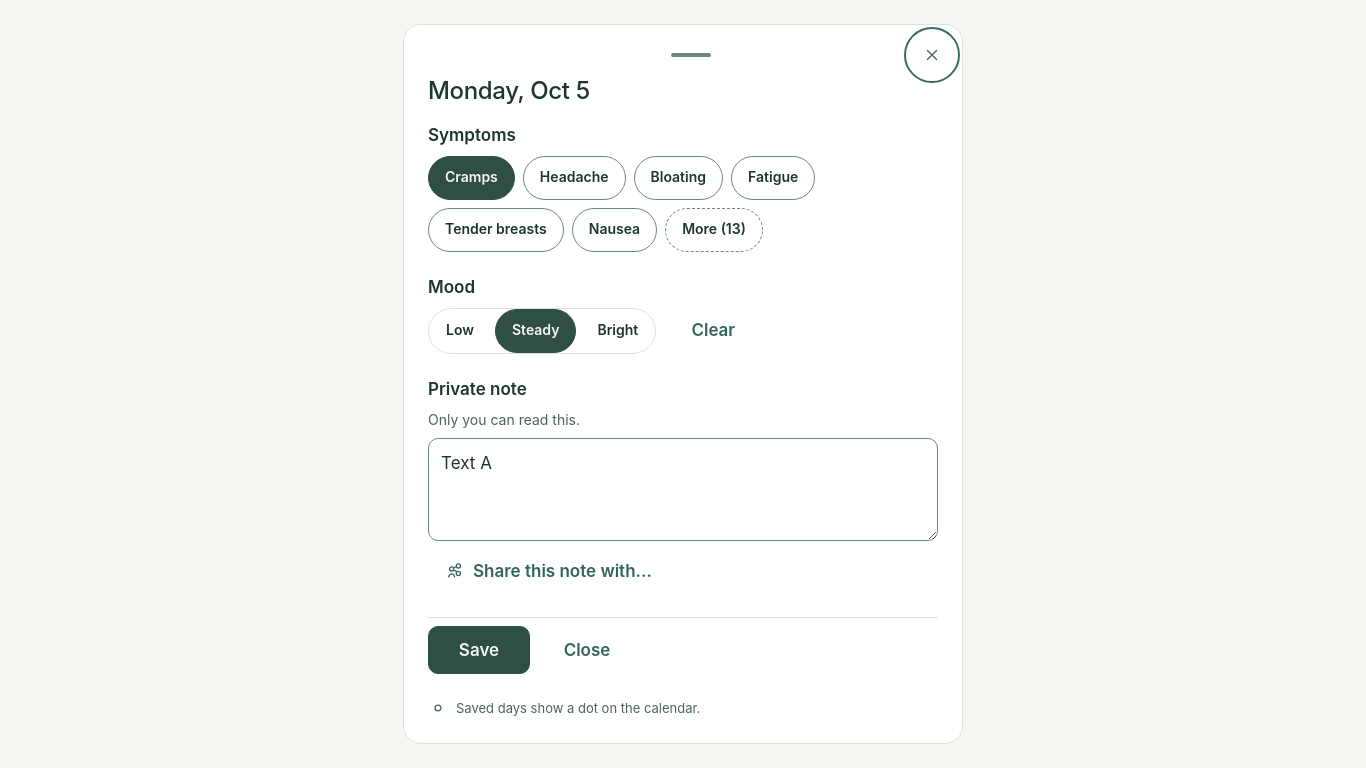
Test case: DayLogSheet › shows the note as it is now after a share conflict, and shares only after a fresh confirm
This screenshot has width=1366, height=768.
(page scrolled)
Click the button "Share this note with...".
click(548, 571)  # box x1=428 y1=549 x2=669 y2=593
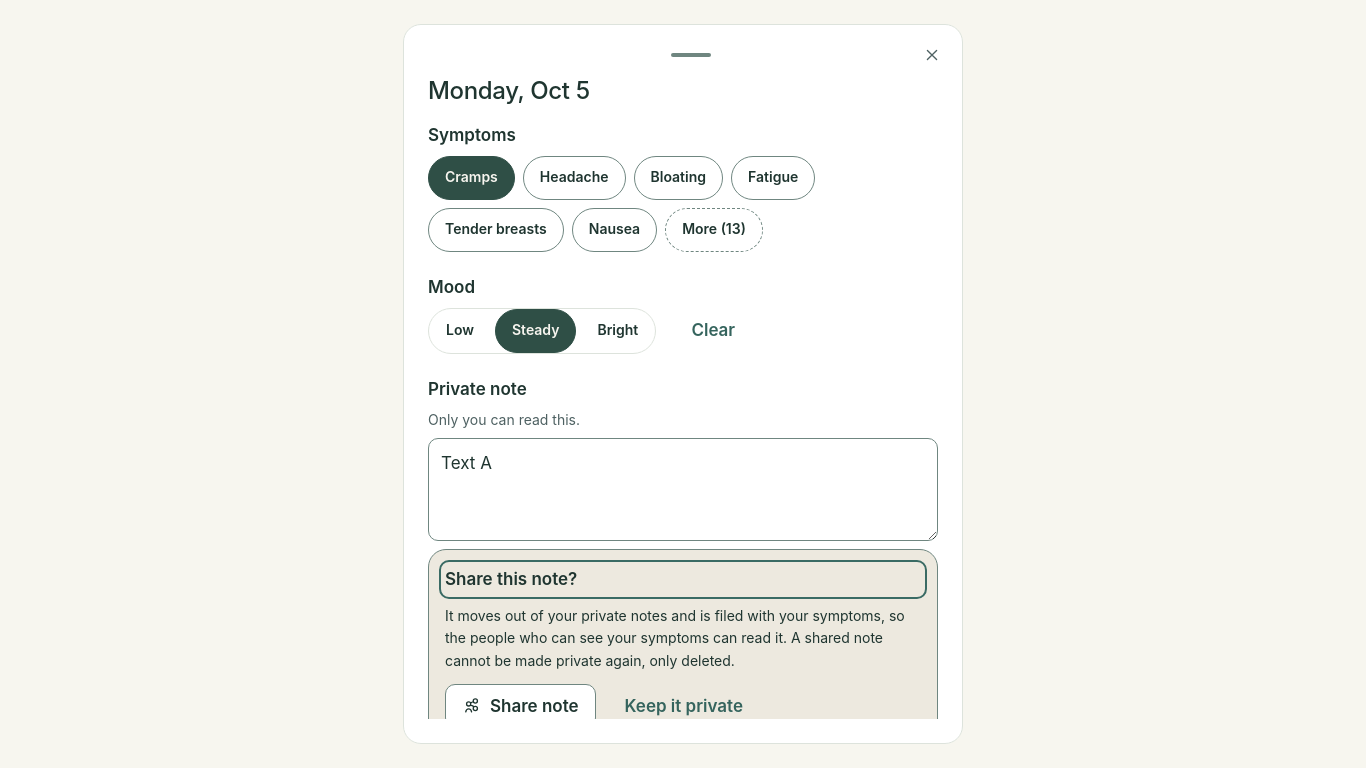
Click the button "Share note".
click(520, 706)  # box x1=445 y1=684 x2=596 y2=728
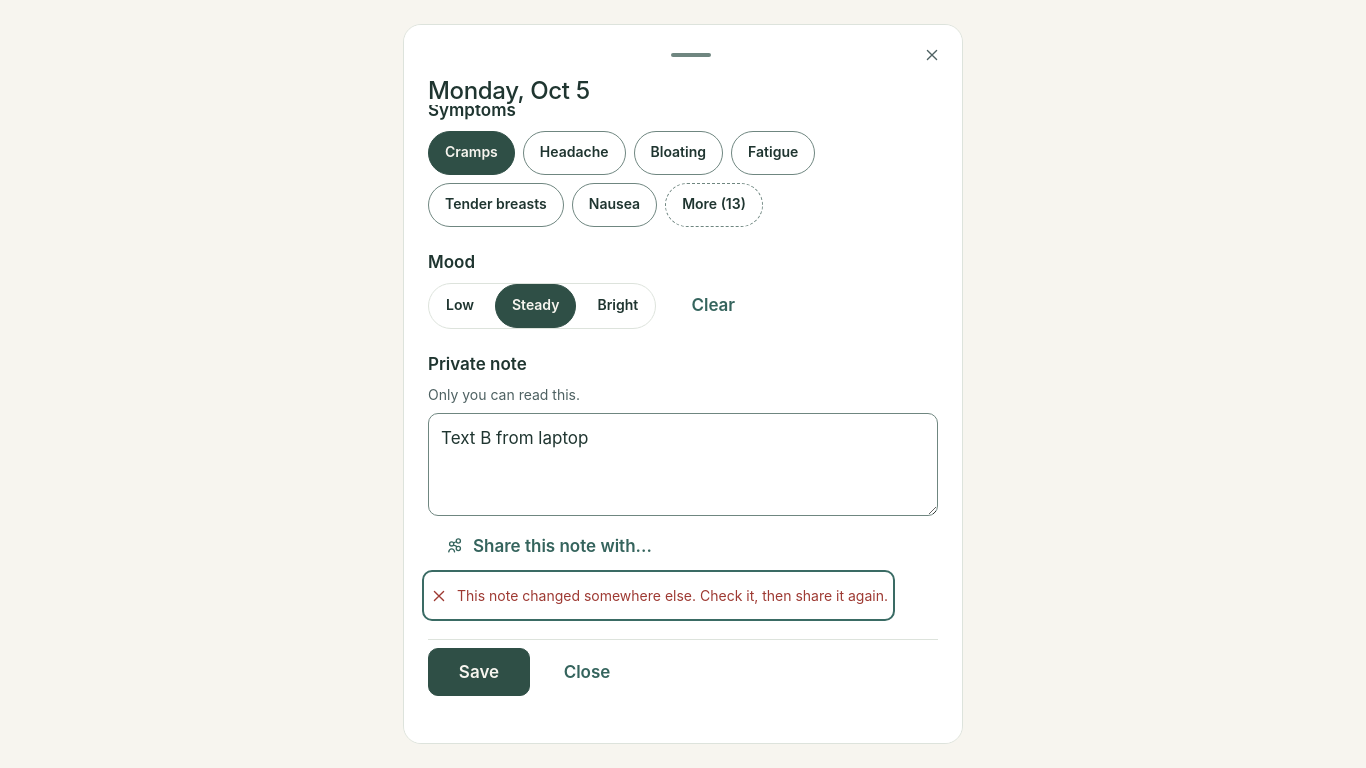
expect the element "Share this note?" is not shown: met
expect the text box labelled "Private note" holds "Text B from laptop": met, box x1=428 y1=413 x2=938 y2=516
Click the button "Share this note with...".
click(548, 546)  # box x1=428 y1=524 x2=669 y2=568
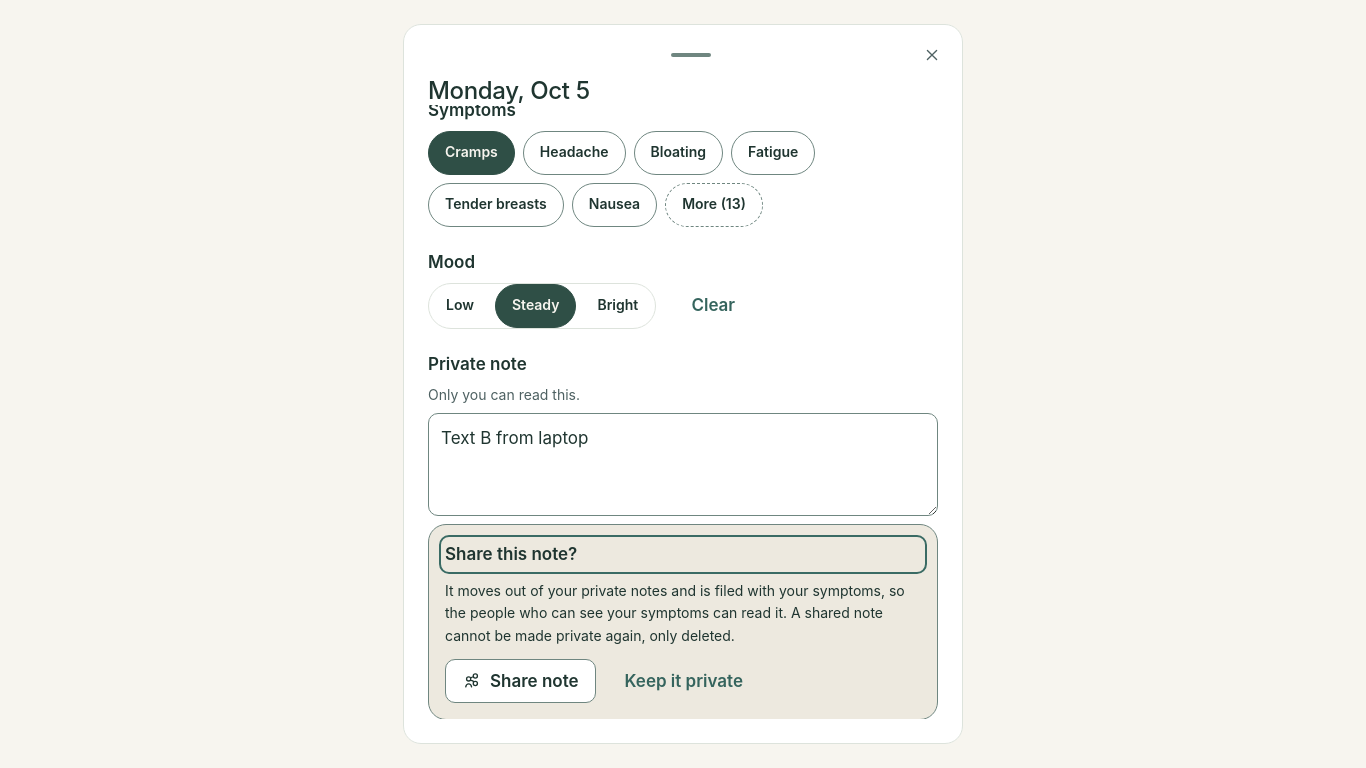
expect the text "This note changed somewhere else. Check it, then share it again." is gone: met
Click the button "Share note".
click(520, 681)  # box x1=445 y1=659 x2=596 y2=703
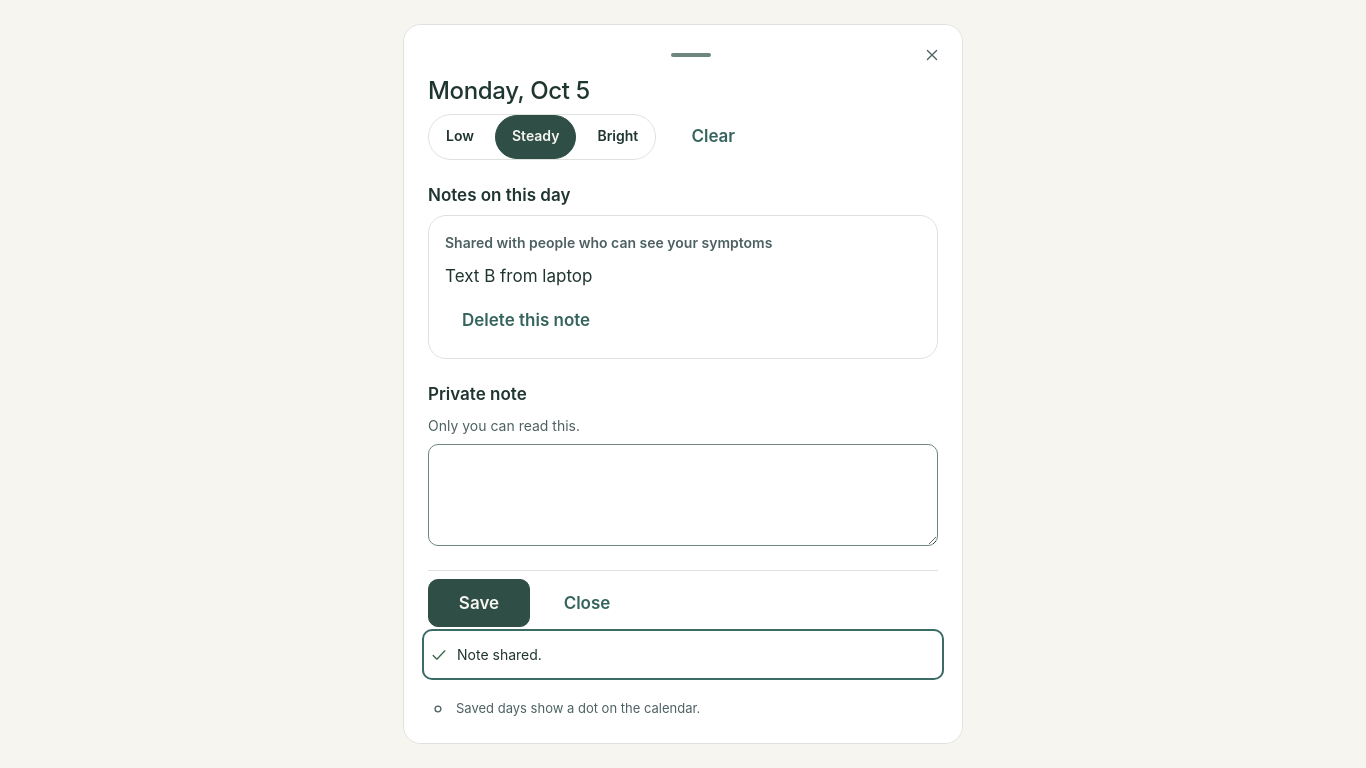
expect the text "Note shared." is shown: met, box x1=457 y1=644 x2=542 y2=665
